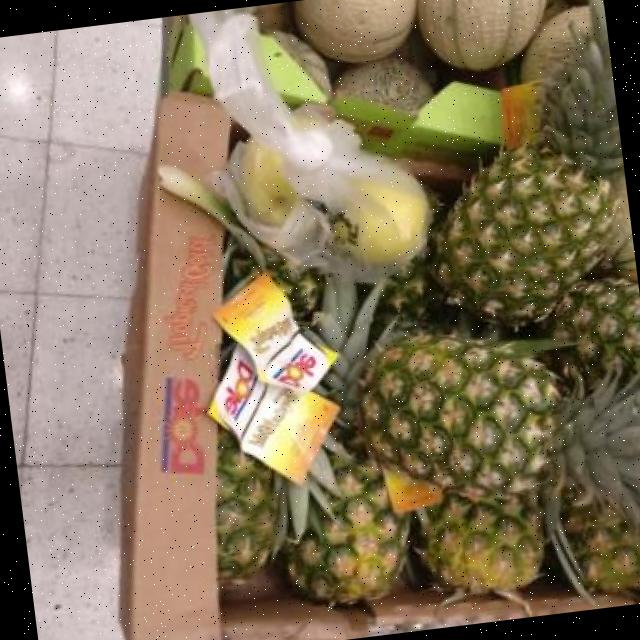pineapple: (428, 0, 625, 325), (359, 336, 640, 527), (284, 464, 409, 603), (417, 496, 542, 616), (217, 430, 277, 576), (549, 278, 640, 372), (561, 503, 640, 591)
